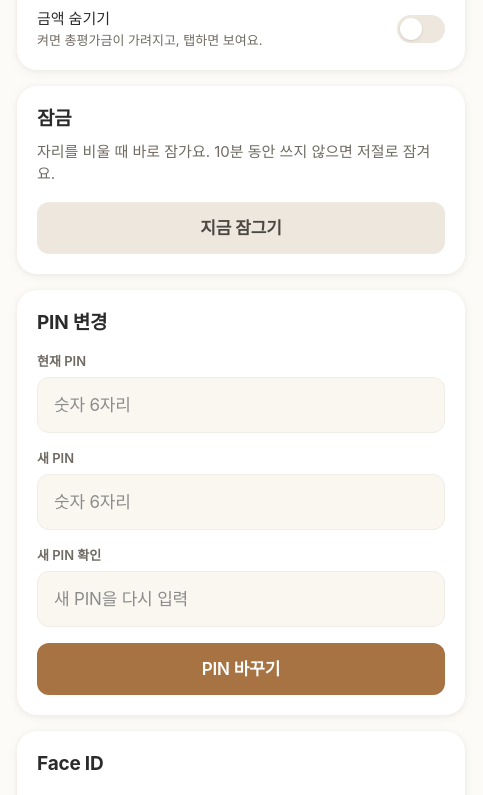
Test: SettingsPage — 섹션 제목 렌더링 › PIN을 바꾸면 Face ID 등록이 해제된다
(page scrolled)
Type "135790" into the password field labelled "현재 PIN" at point(241, 405), box [37,377,445,433]
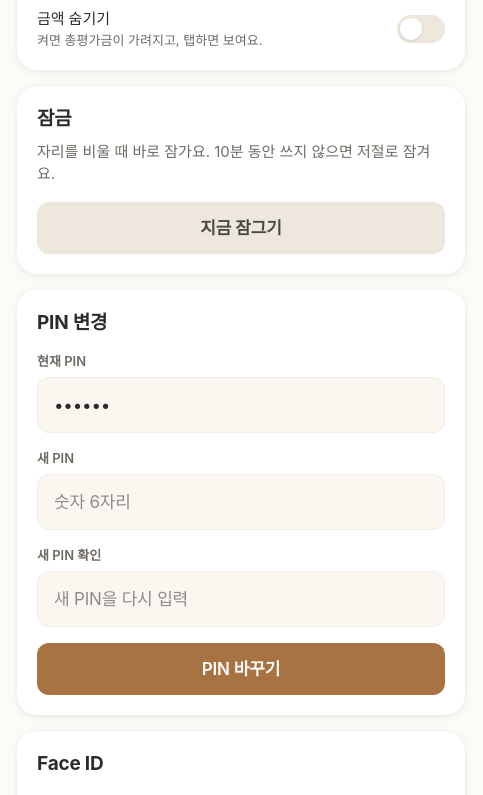
Type "246810" into the password field labelled "새 PIN" at point(241, 502), box [37,474,445,530]
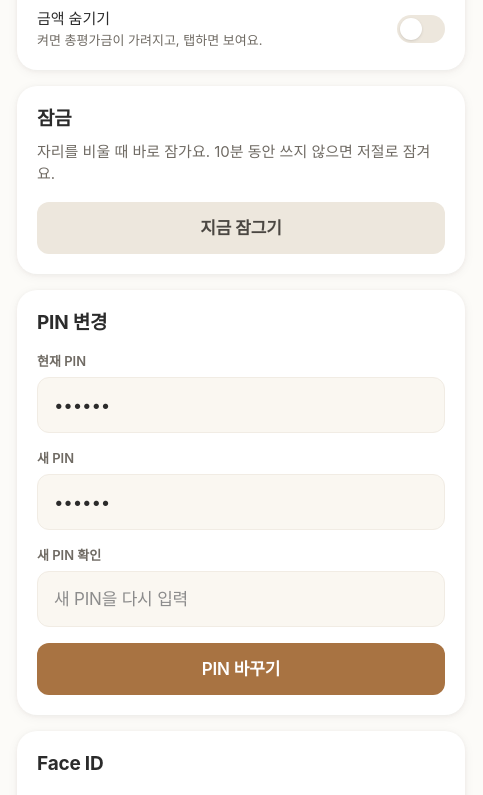
Type "246810" into the password field labelled "새 PIN 확인" at point(241, 599), box [37,571,445,627]
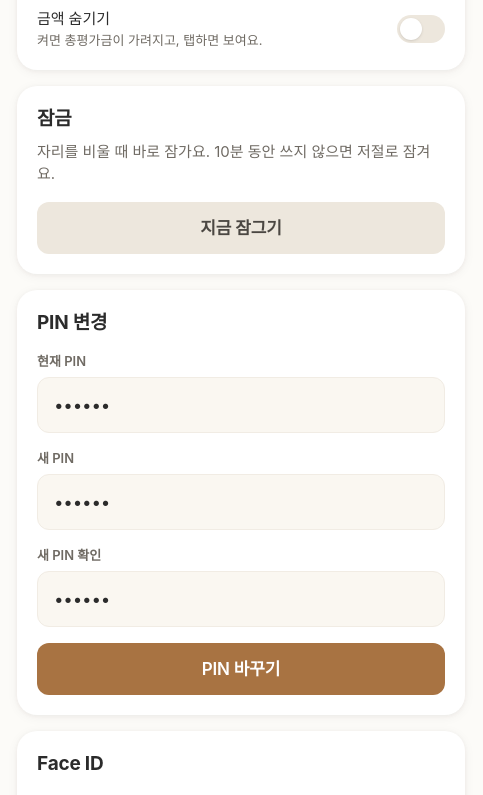
Click the button "PIN 바꾸기" at point(241, 669), box [37,643,445,695]
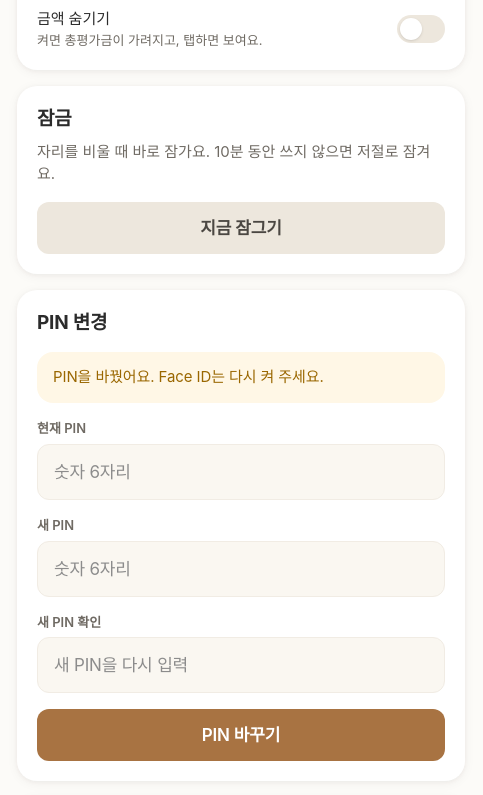
Check: the text "PIN을 바꿨어요. Face ID는 다시 켜 주세요." is shown, box [53,367,324,386]
